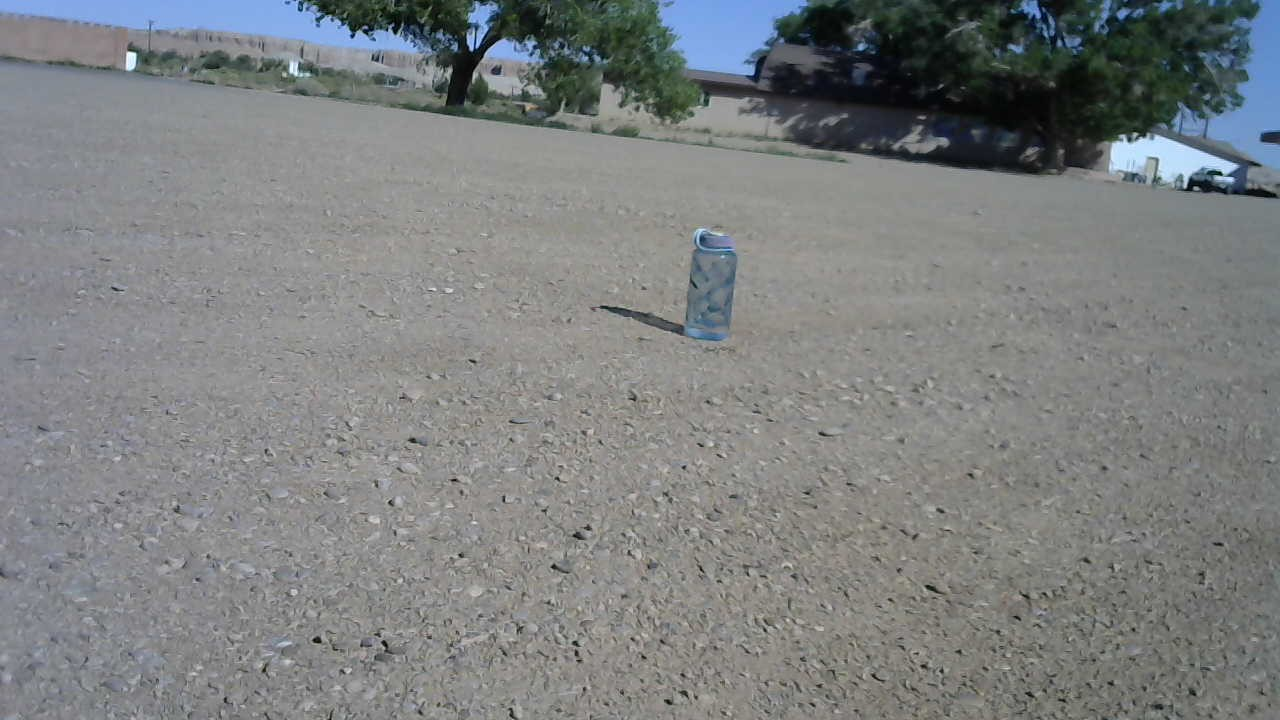bottle: (681, 221, 740, 343)
